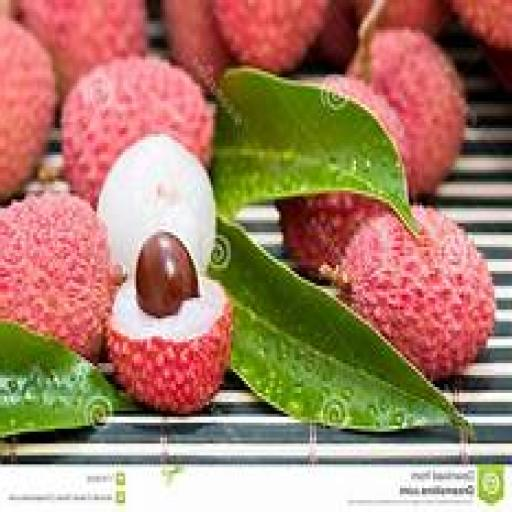lychee: (342, 209, 493, 381), (61, 57, 212, 205), (107, 233, 229, 413), (0, 194, 113, 360), (96, 134, 214, 273), (366, 30, 464, 196), (17, 0, 146, 95), (0, 18, 53, 199), (276, 194, 381, 276), (213, 0, 326, 71), (162, 0, 229, 89), (312, 0, 357, 68), (450, 0, 511, 50), (377, 0, 449, 35), (483, 48, 511, 92), (0, 0, 16, 17)
